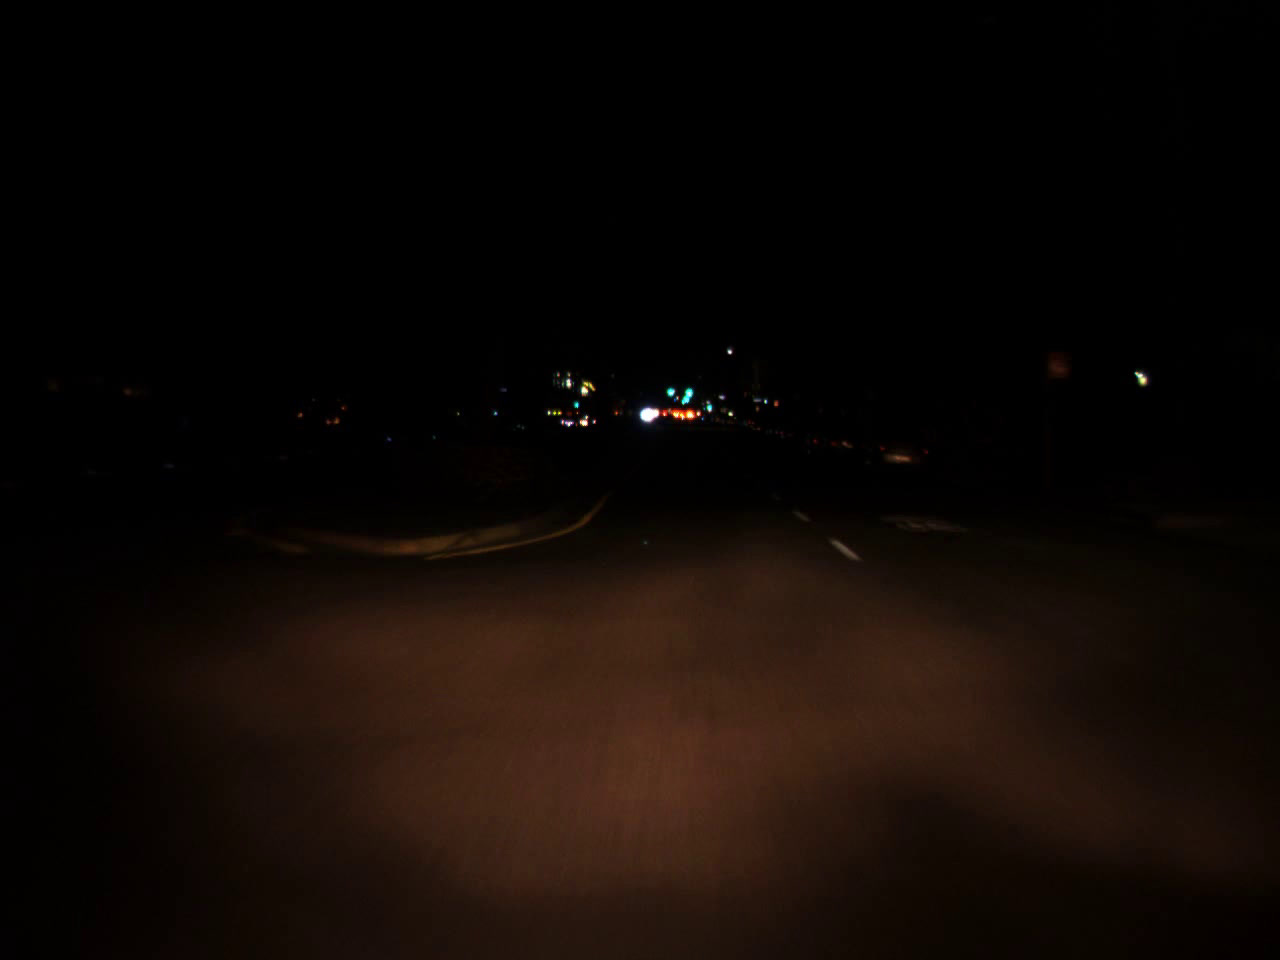go: (680, 377, 694, 401), (665, 380, 675, 398), (705, 400, 712, 412), (572, 397, 579, 409)
